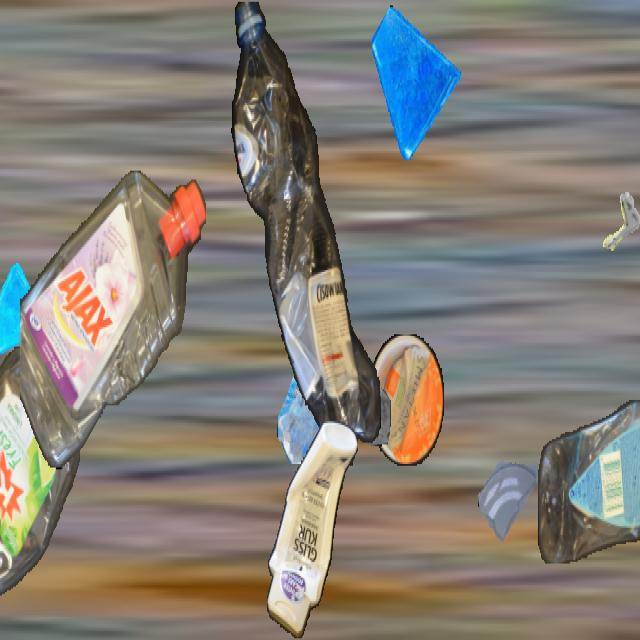glass: (372, 2, 460, 158), (277, 318, 359, 464), (325, 331, 391, 448), (478, 436, 540, 546), (0, 263, 44, 366)
metal: (585, 176, 640, 283), (634, 2, 640, 112)
plastic: (229, 2, 385, 464), (20, 171, 206, 469), (0, 347, 80, 638), (267, 422, 357, 638), (538, 400, 640, 564), (369, 334, 443, 466)
